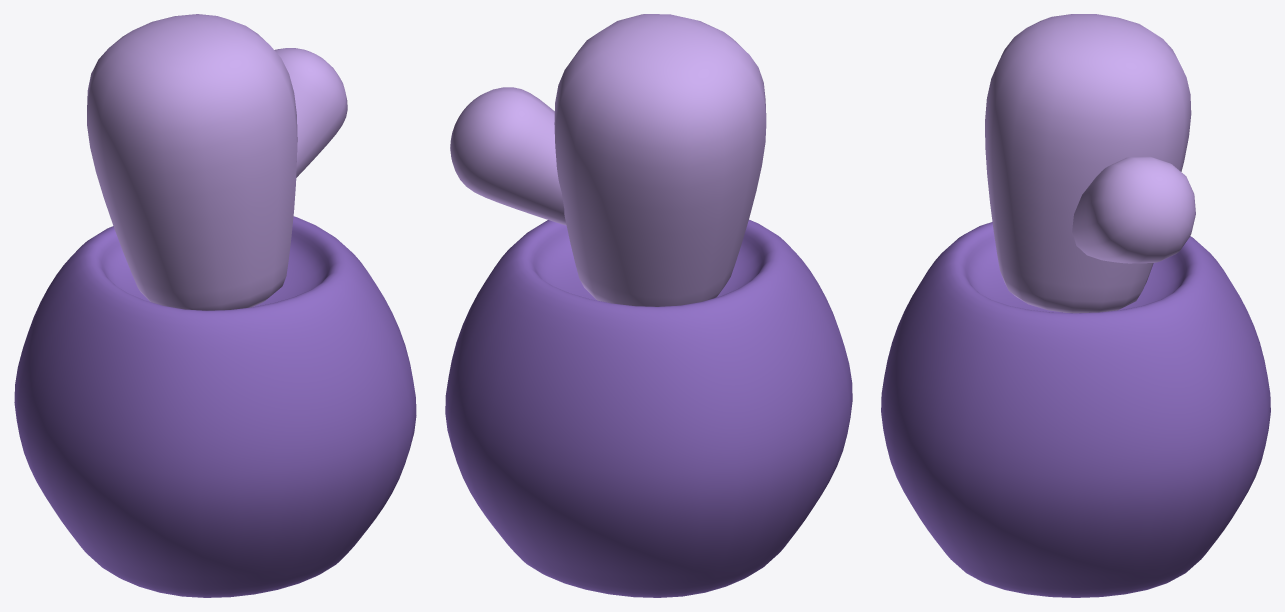
The model's file is Cactus.gltf.
The picture shows the model from 3 angles, left to right: view 1: azimuth 30°, elevation 25°; view 2: azimuth 150°, elevation 25°; view 3: azimuth 270°, elevation 25°; orthographic projection. The views are drawn at different scales.
Parts seen in each view (by area): view 1: Cube, Cube 2, Cube 3; view 2: Cube, Cube 2, Cube 3; view 3: Cube, Cube 2, Cube 3.
Part boxes in pixels (x1=…): Cube: x1=14, y1=216, x2=416, y2=597; Cube 2: x1=87, y1=14, x2=297, y2=310; Cube 3: x1=274, y1=48, x2=347, y2=177; Cube: x1=445, y1=219, x2=852, y2=597; Cube 2: x1=554, y1=14, x2=766, y2=306; Cube 3: x1=450, y1=87, x2=566, y2=225; Cube: x1=881, y1=222, x2=1270, y2=597; Cube 2: x1=985, y1=14, x2=1191, y2=313; Cube 3: x1=1072, y1=156, x2=1195, y2=263.
Bounding box in the file's own units: 0.8884 × 1.31 × 0.8884.
